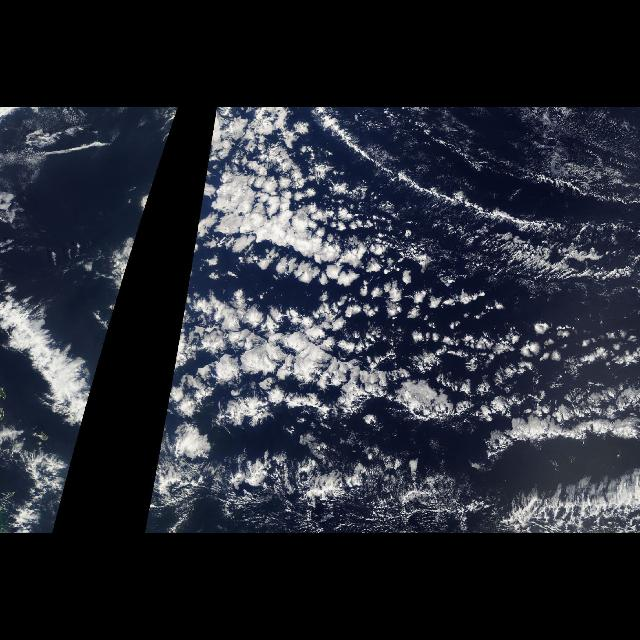Fish: (492, 460, 636, 532)
Flower: (160, 128, 566, 448), (161, 128, 173, 166)
Sugar: (408, 107, 640, 205)
